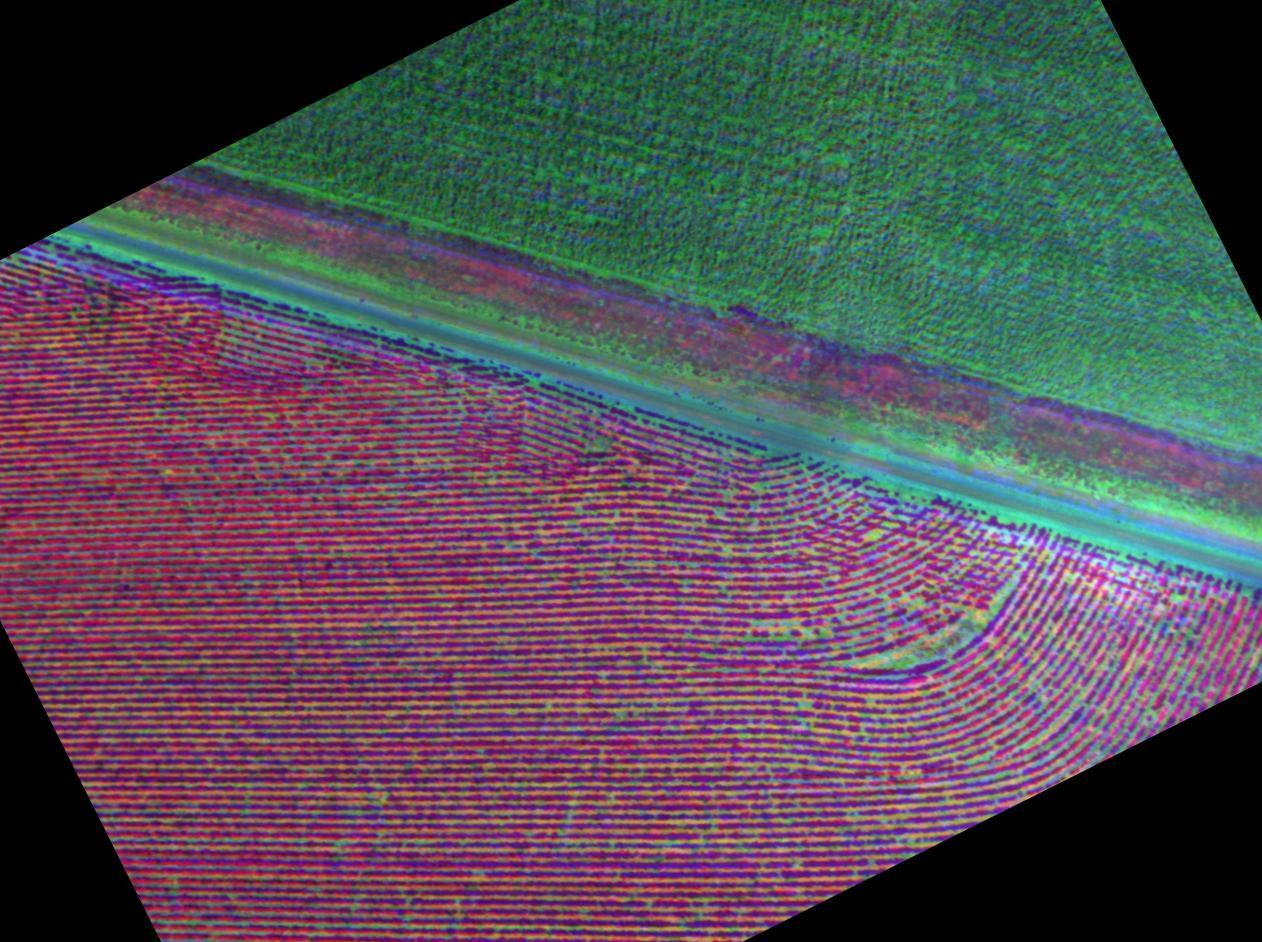dc: (861, 568, 1017, 679), (883, 740, 978, 829), (743, 593, 832, 670), (1063, 675, 1150, 749)
